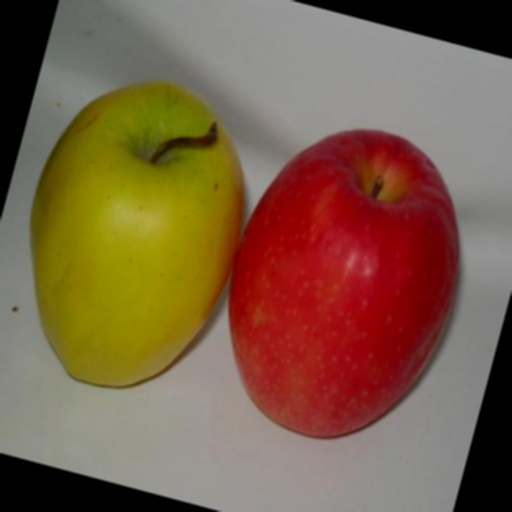fruit: (62, 101, 394, 496), (0, 58, 101, 412)
